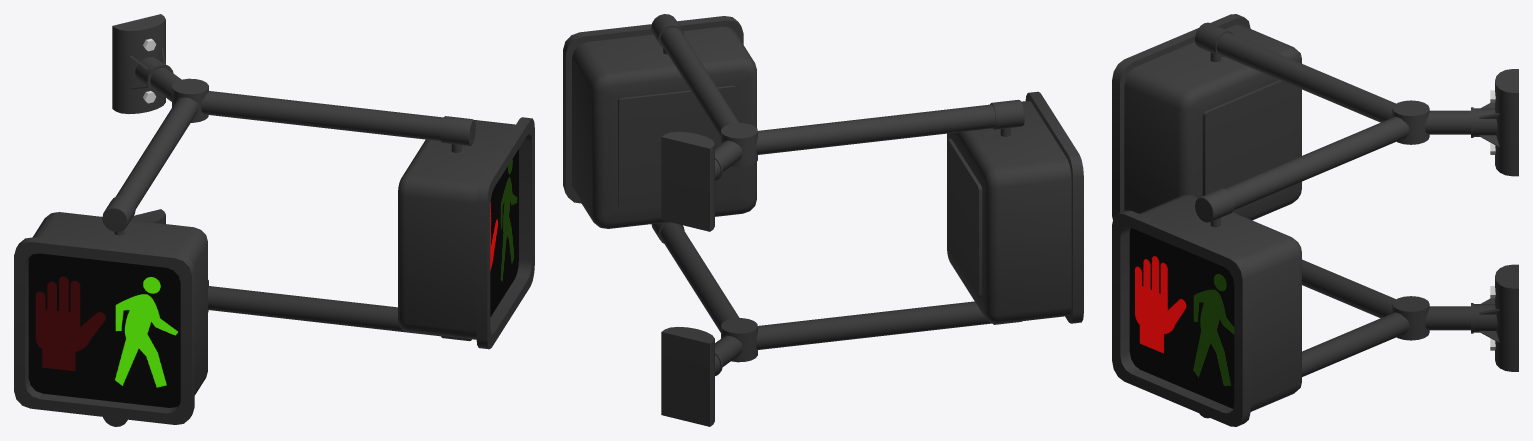
Rendered from pedestrian_traffic_light_02_base_medium_black.glb.
The picture shows the model from 3 angles, left to right: view 1: azimuth 30°, elevation 25°; view 2: azimuth 150°, elevation 25°; view 3: azimuth 270°, elevation 25°; orthographic projection.
Visible parts, largest first — view 1: pedestrian_light_traffic_01_black_small.001, pedestrian_light_traffic_01_black_small, pedestrian_traffic_light_02_base_medium_black; view 2: pedestrian_traffic_light_02_base_medium_black, pedestrian_light_traffic_01_black_small, pedestrian_light_traffic_01_black_small.001; view 3: pedestrian_light_traffic_01_black_small, pedestrian_light_traffic_01_black_small.001, pedestrian_traffic_light_02_base_medium_black.
Boxes of the visible parts, box(x1,y1,x2,y2) form: pedestrian_light_traffic_01_black_small.001: box(14, 212, 207, 424); pedestrian_light_traffic_01_black_small: box(398, 117, 534, 349); pedestrian_traffic_light_02_base_medium_black: box(102, 14, 475, 426); pedestrian_traffic_light_02_base_medium_black: box(651, 14, 1024, 426); pedestrian_light_traffic_01_black_small: box(563, 16, 756, 228); pedestrian_light_traffic_01_black_small.001: box(947, 91, 1083, 323); pedestrian_light_traffic_01_black_small: box(1112, 195, 1301, 426); pedestrian_light_traffic_01_black_small.001: box(1112, 14, 1301, 220); pedestrian_traffic_light_02_base_medium_black: box(1195, 22, 1518, 418).
Size of the model in its own units: 0.7013 by 0.358 by 0.473.
Materials: 3 (3 with a texture image).
